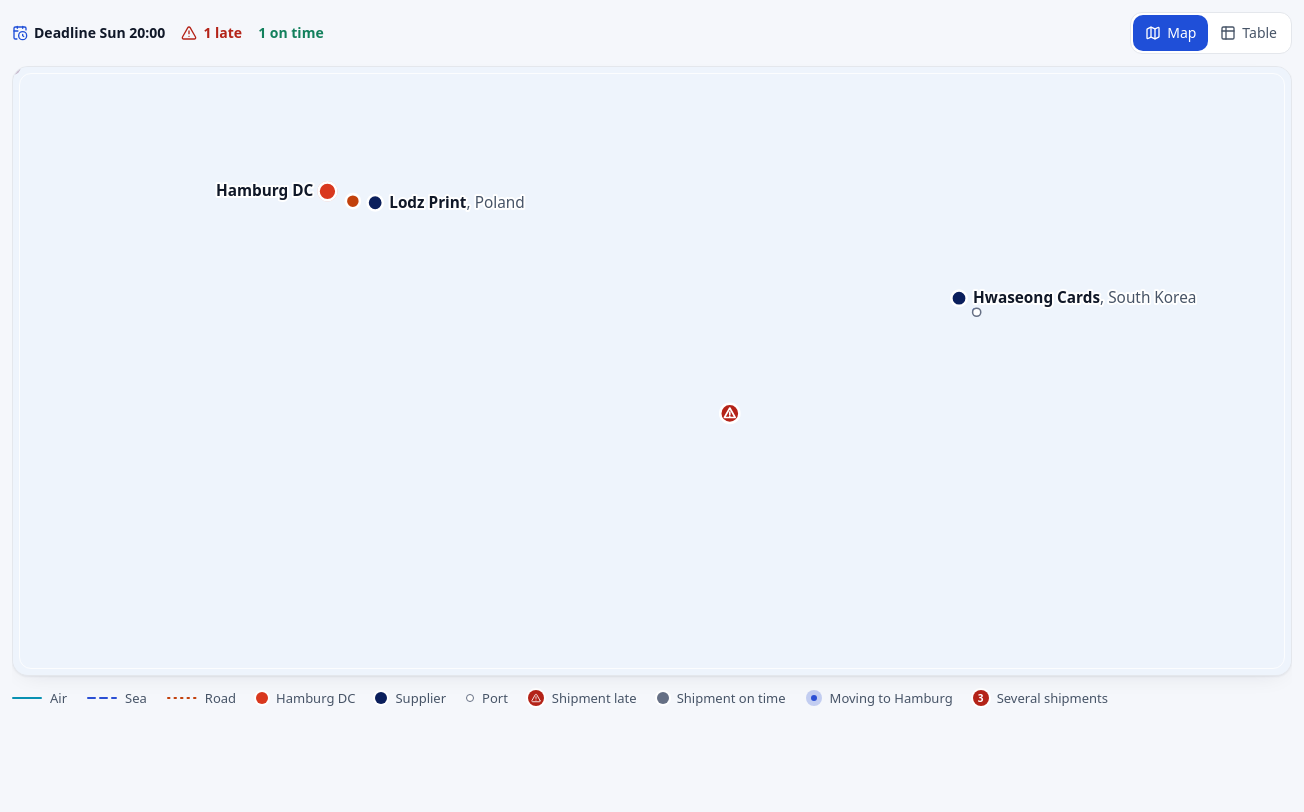
Scenario: TransportMap › table view lists every shipment
Click the button "Table" at coordinates (1249, 33), box [1208,15,1289,51]
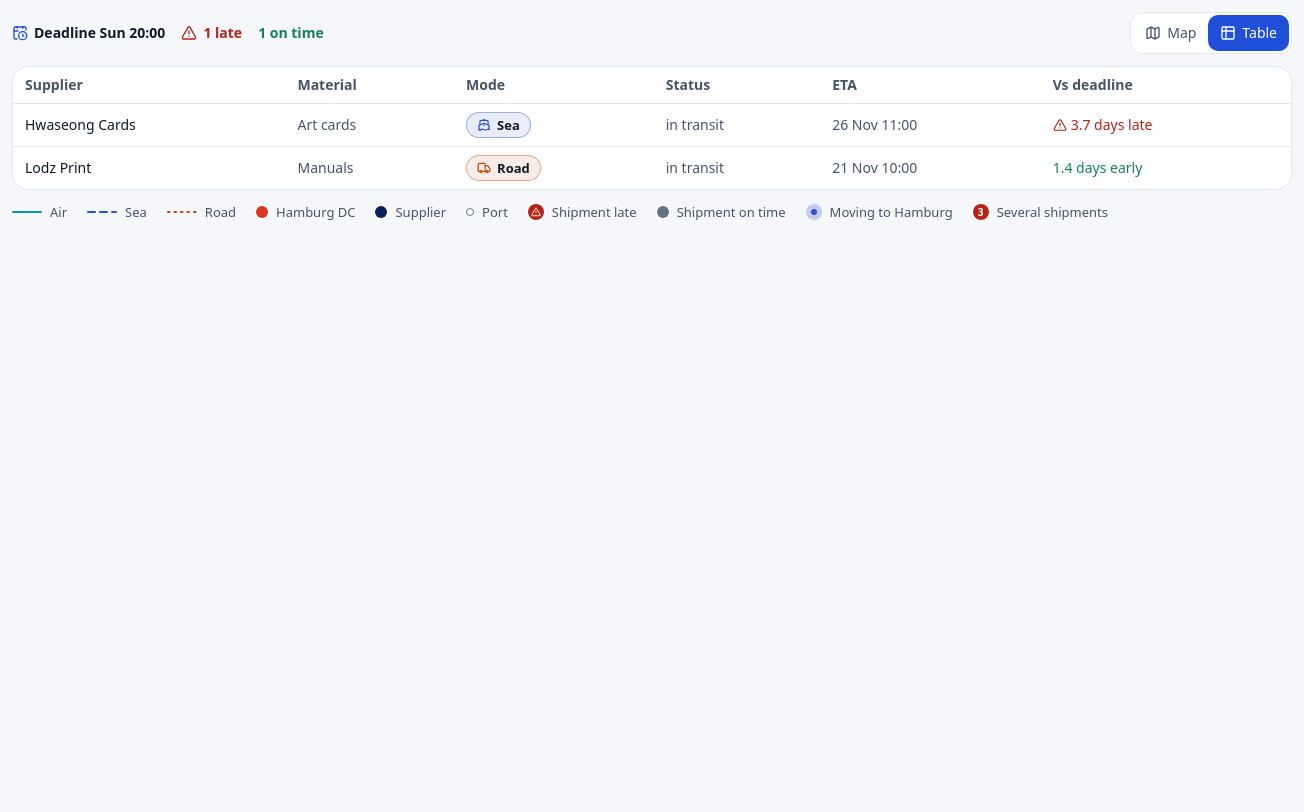
expect the number of rows with test id "map-table-row" is 2: met, box [13,104,1291,146]; [13,146,1291,189]
expect the text "3.7 days late" is shown: met, box [1041,104,1291,146]
expect the text "Manuals" is shown: met, box [286,146,454,189]
